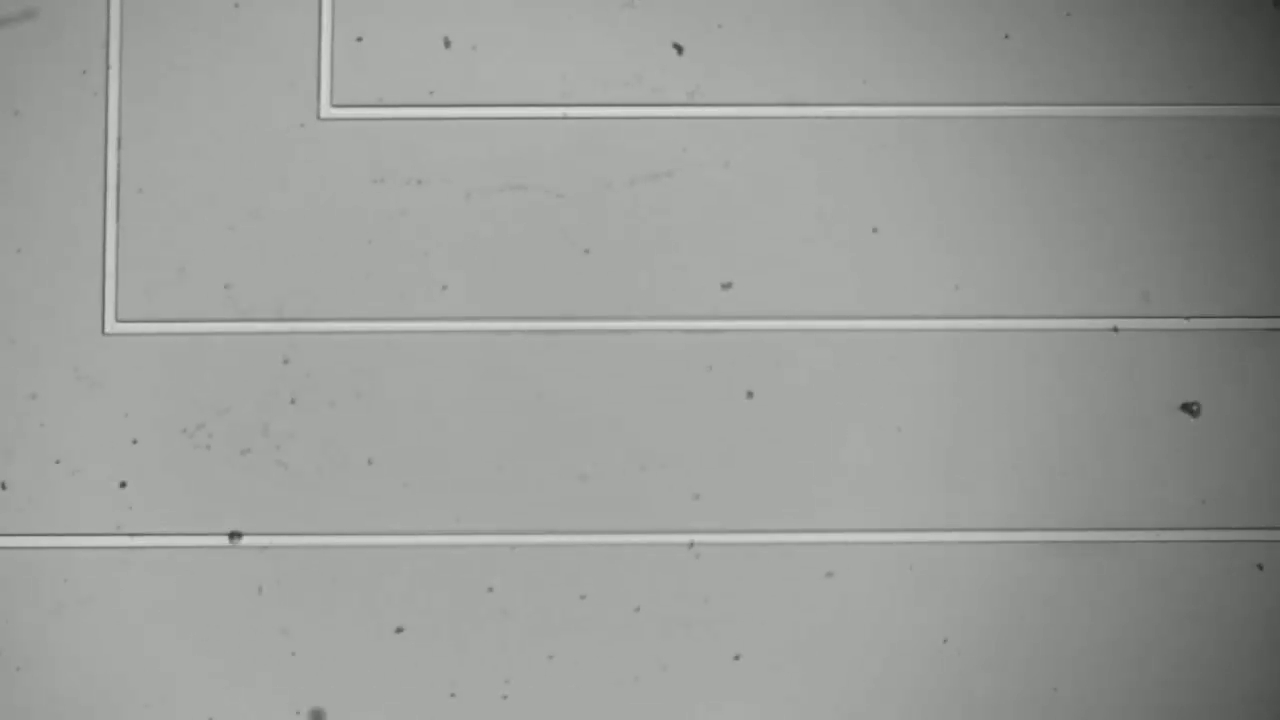stains_enbedded: (218, 525, 252, 554)
